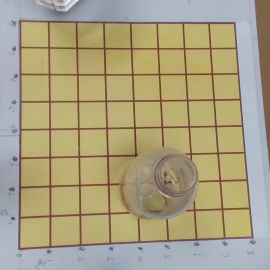bottle: (118, 146, 198, 223)
